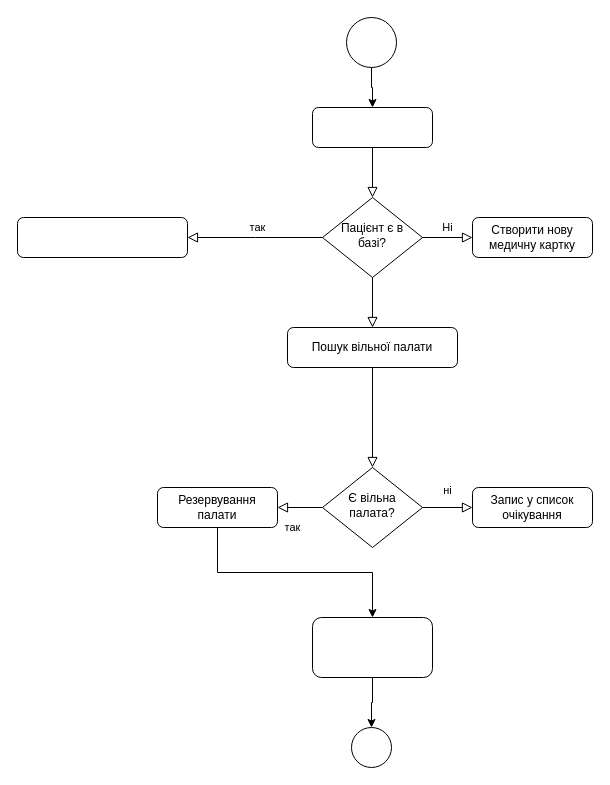
This 610x785 diagram has some shape labels left out. The centre of each missing label's shape, as x and y in pixels:
Відкрити існуючу картку та оновити дані: (102,237)
Звернення пацієнта до реєстратури: (372,127)
Перевезення пацієнта у палату: (372,647)
